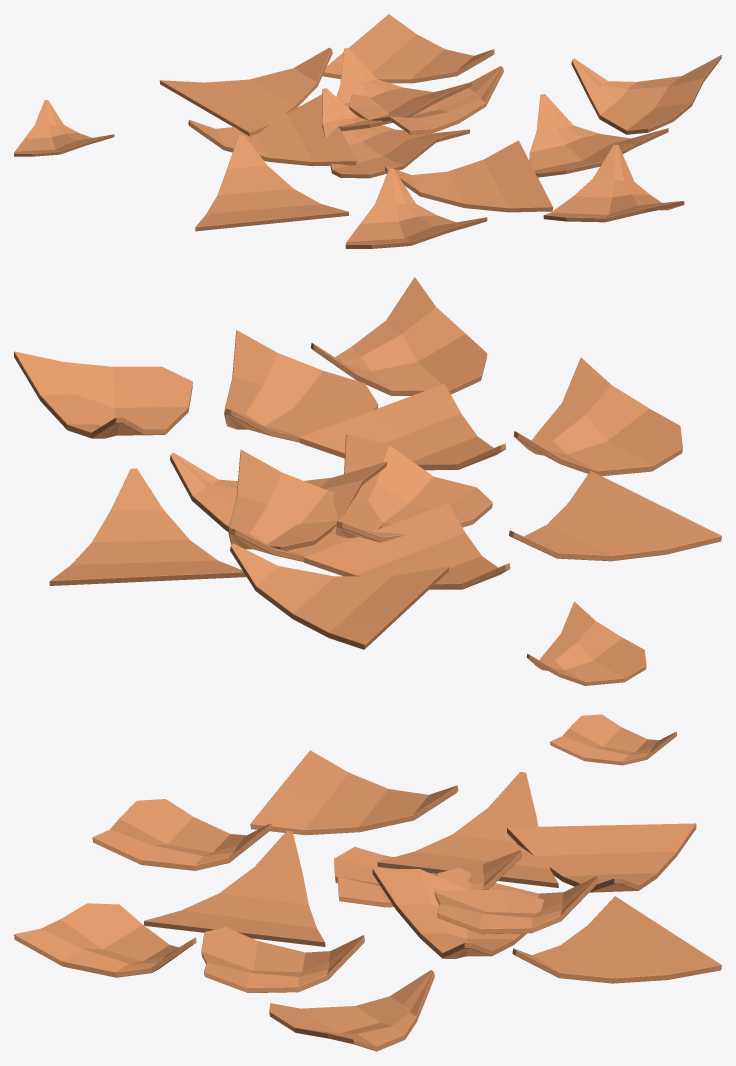
Rendered from chips_3_partyassets.fbx.
The picture shows the model from 3 angles, top to bottom: view 1: azimuth 30°, elevation 25°; view 2: azimuth 150°, elevation 25°; view 3: azimuth 270°, elevation 25°; orthographic projection. The views are drawn at different scales.
Visible parts, largest first — view 1: chips_3_partyassets; view 2: chips_3_partyassets; view 3: chips_3_partyassets.
Boxes of the visible parts, left/top/right/bottom form: chips_3_partyassets: left=14, top=14, right=721, bottom=248; chips_3_partyassets: left=14, top=277, right=721, bottom=685; chips_3_partyassets: left=14, top=714, right=721, bottom=1051.
Bounding box in the file's own units: 46.4 × 2.67 × 38.87.
